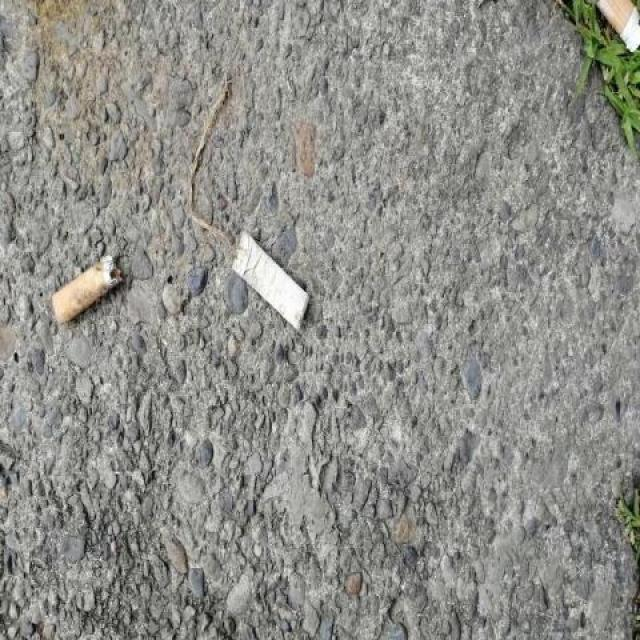non-organic waste: (227, 226, 312, 330), (50, 250, 126, 333), (592, 0, 640, 60)
